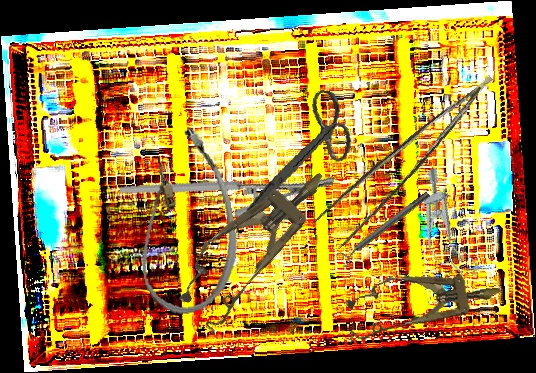Cannula: (122, 123, 247, 320)
Fixation Ring: (334, 187, 435, 269)
Iris Scissors: (243, 80, 360, 230)
Needle Holder: (119, 118, 335, 252)
Speculum: (163, 149, 347, 337), (340, 260, 506, 345), (405, 164, 481, 287)
Tissue Forceps: (306, 74, 517, 254)
